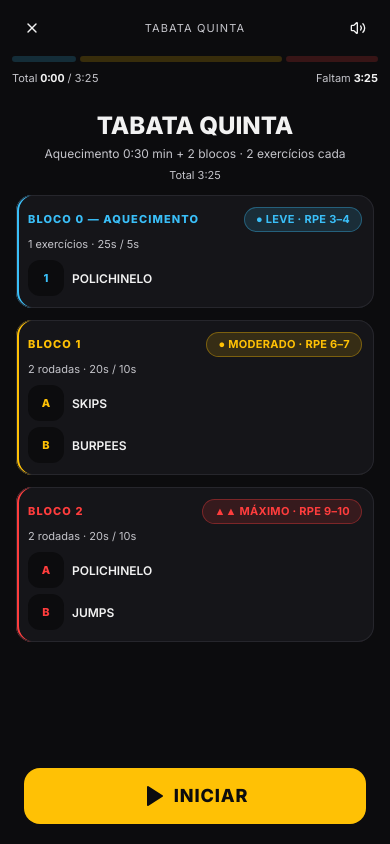
it: Player do TABATA — tela nova › bloco moderado mostra a intensidade e nunca "vai com tudo"
Click the button "Iniciar" at coordinates (195, 796), box [24,768,366,824]
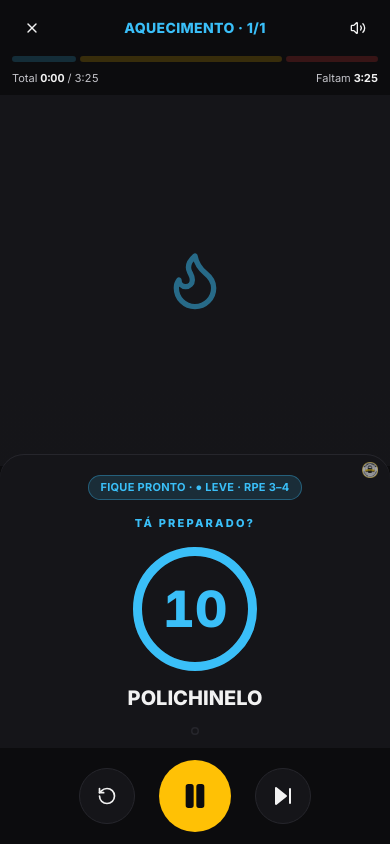
Click the button named "Avançar" at coordinates (283, 796), box [255,768,311,824]
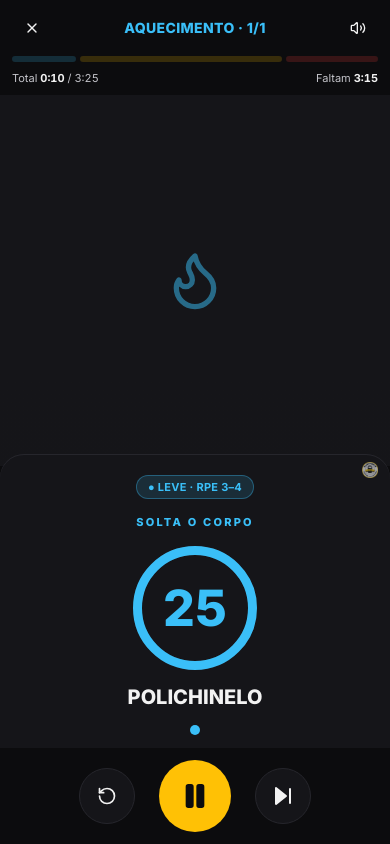
Click the button named "Avançar" at coordinates (283, 796), box [255,768,311,824]
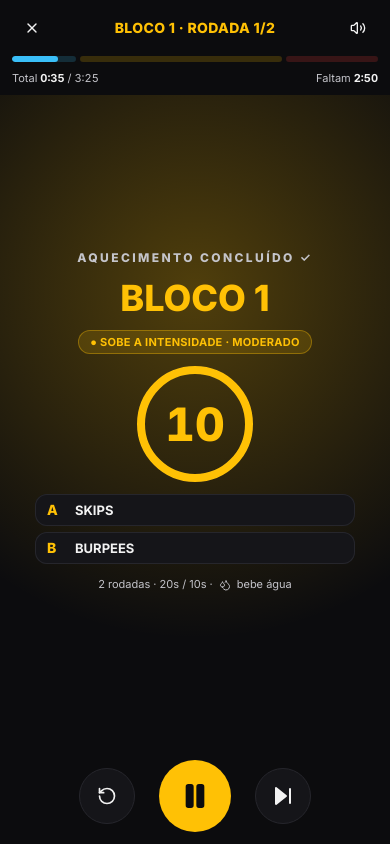
Check: the element with test id "tabata-block-transition" shows "Aquecimento concluído ✓", box [77,250,313,265]
Check: the element with test id "tabata-block-transition" shows "BLOCO 1"
Click the button named "Avançar" at coordinates (283, 796), box [255,768,311,824]
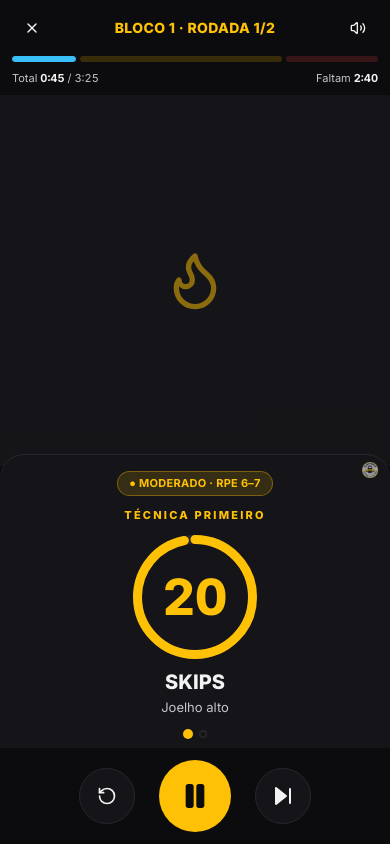
Check: the text with test id "tabata-player-block" reads "BLOCO 1 · RODADA 1/2", box [115,19,275,36]
Check: the text with test id "tabata-player-intensity" reads "● Moderado · RPE 6–7", box [129,476,261,490]
